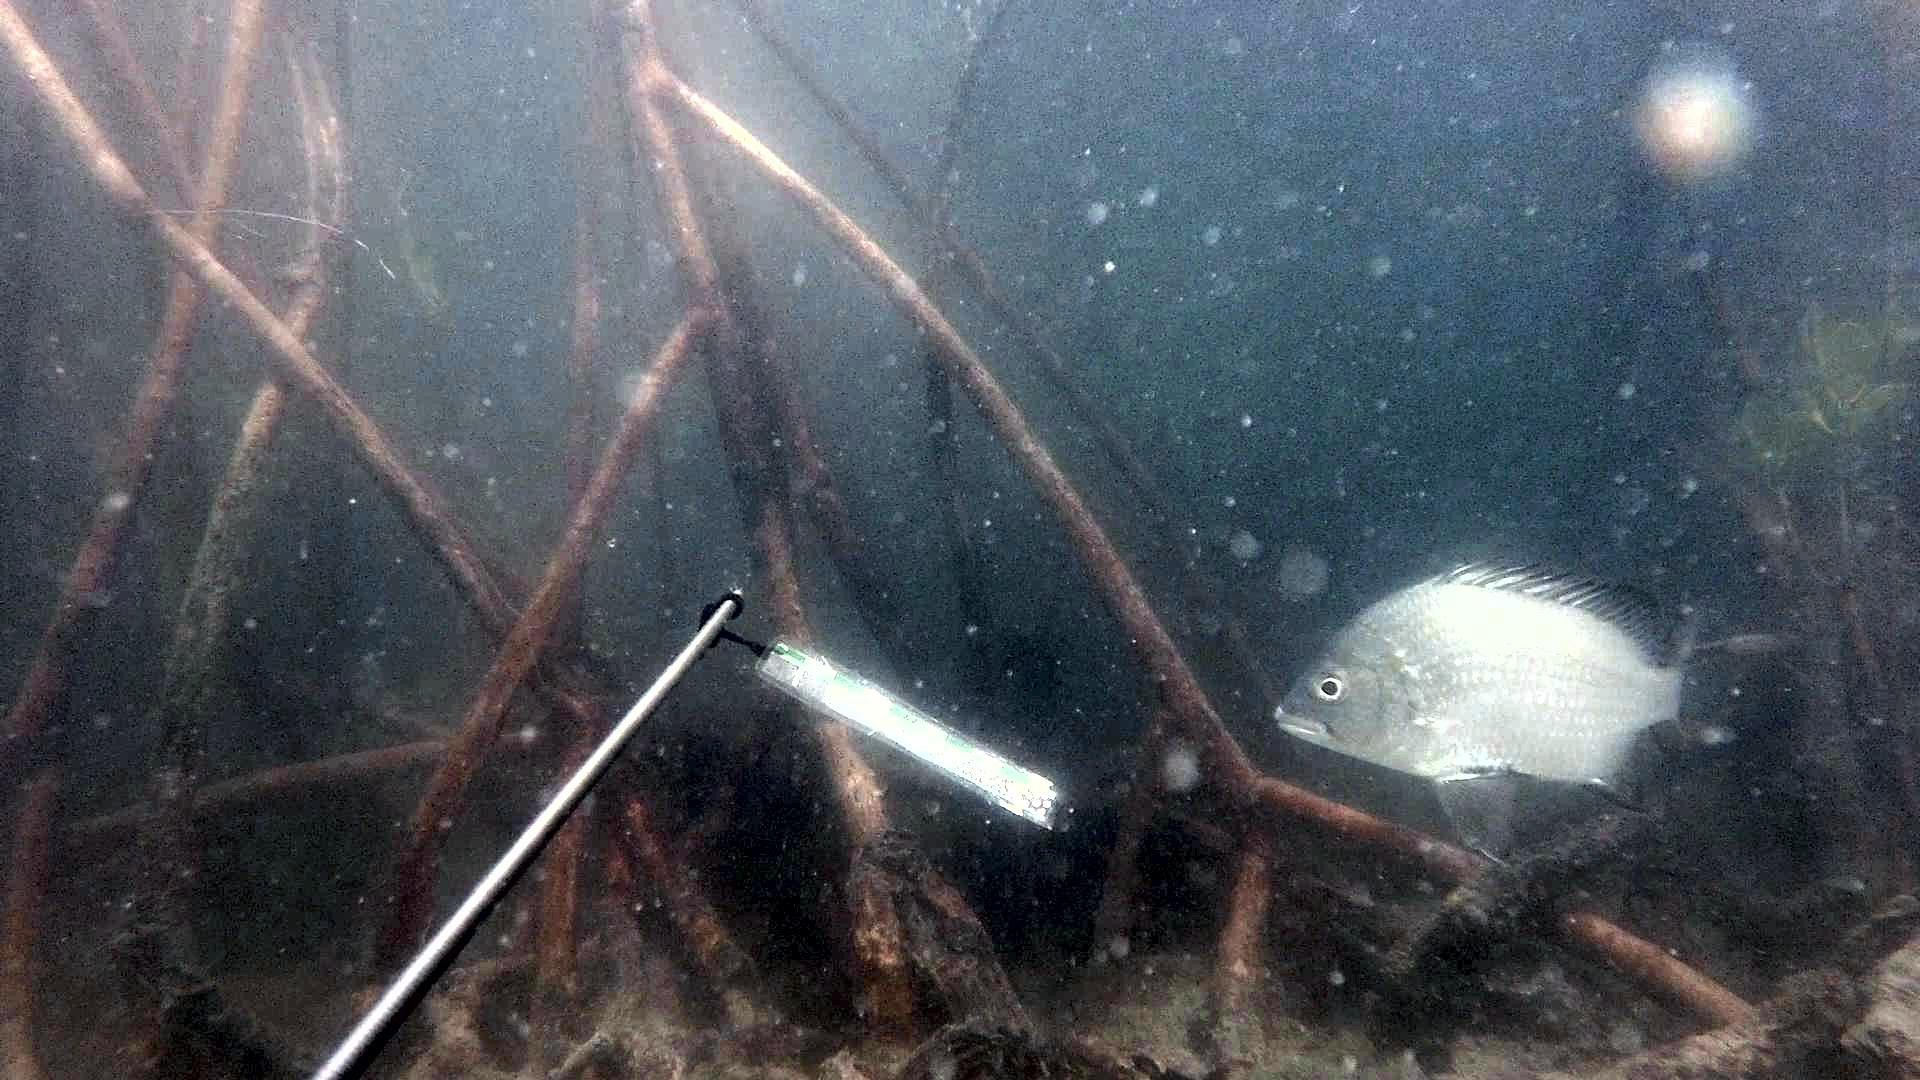acanthopagrus palmaris: (1267, 553, 1709, 877)
